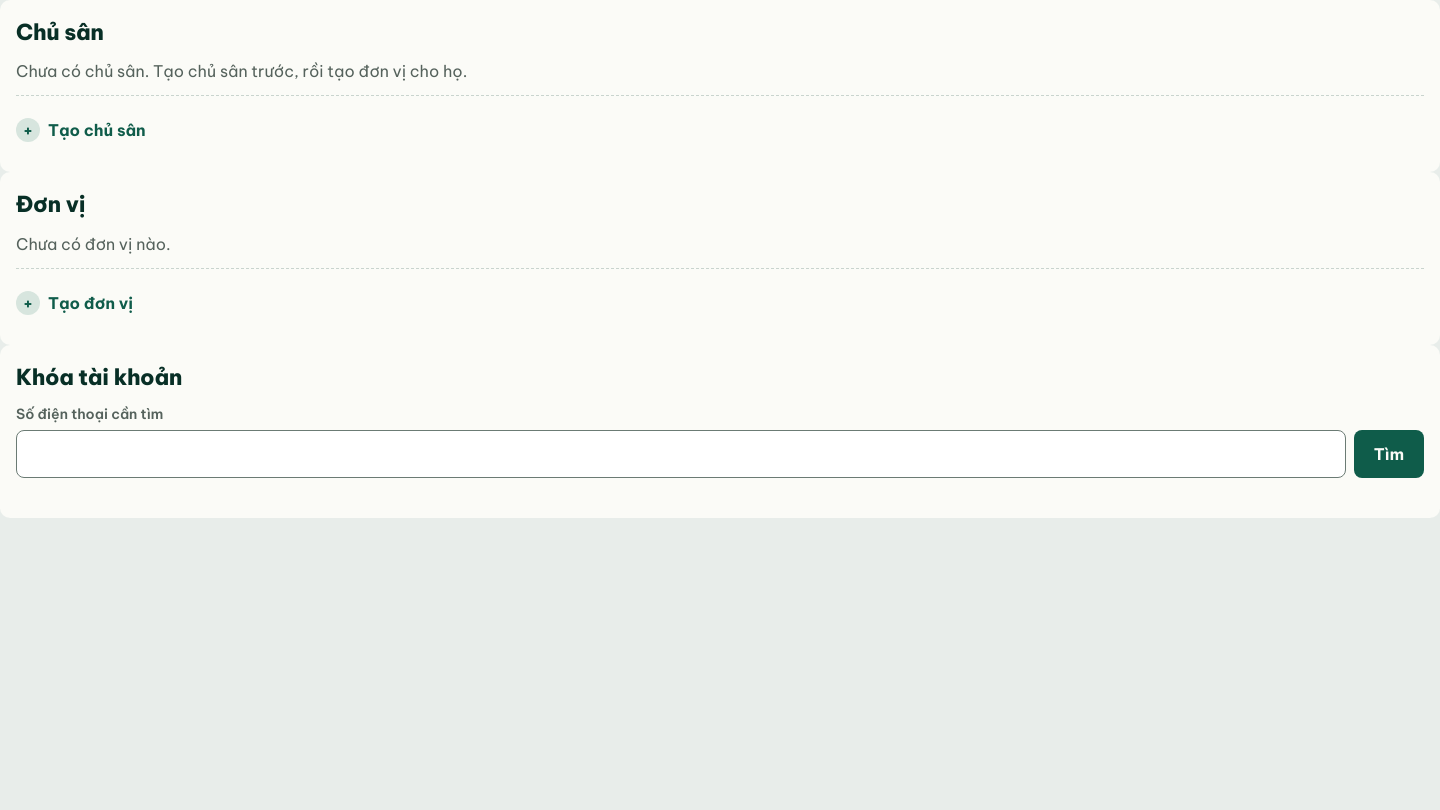
Scenario: AdminPanel › AC-27: the admin finds 0901234567 and locks An, and the row shows "Đã khóa" and "Mở khóa"
Type "0901234567" into the field labelled "Số điện thoại cần tìm" at [681, 454], box 16,430 -> 1346,478
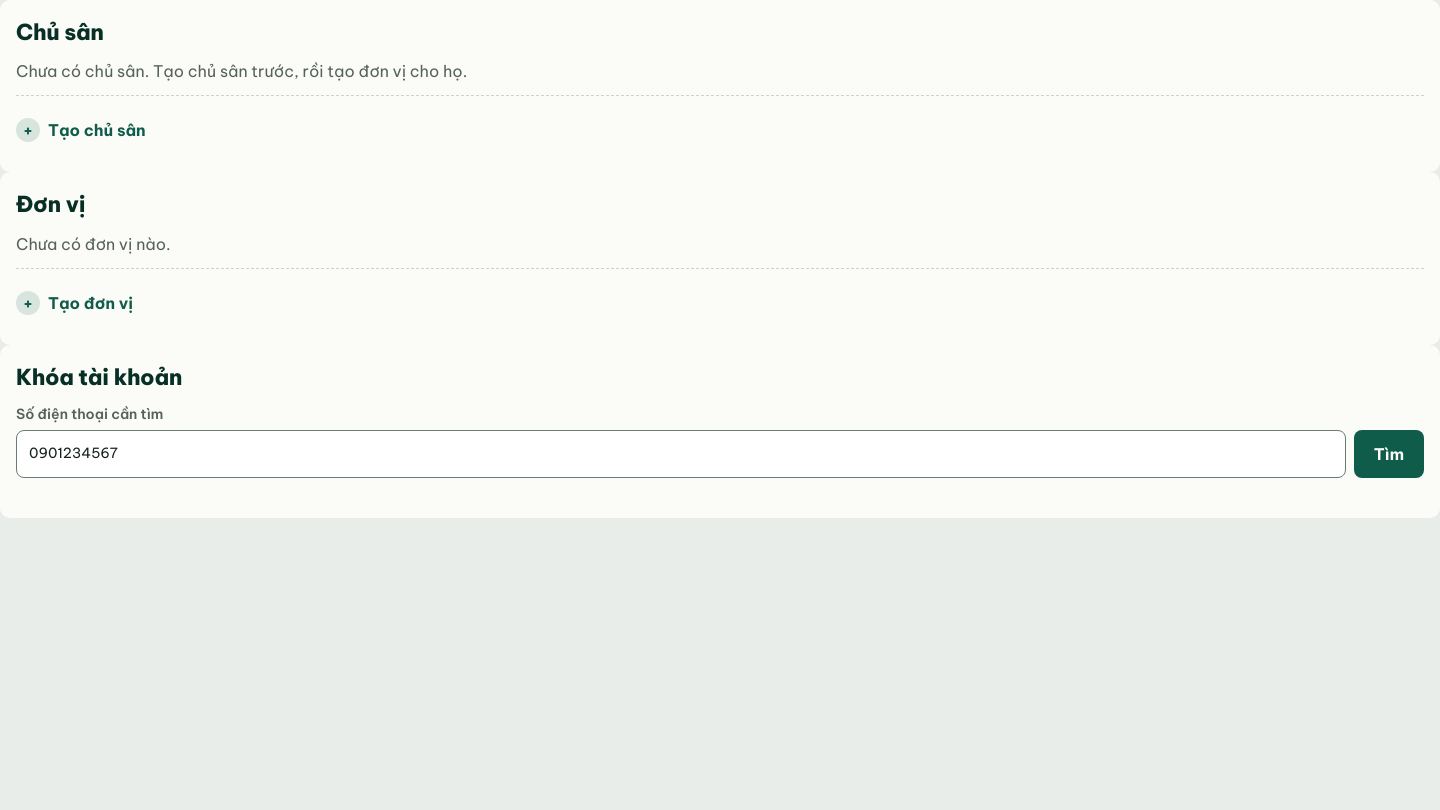
Click the button "Tìm" at [1389, 454], box 1354,430 -> 1424,478
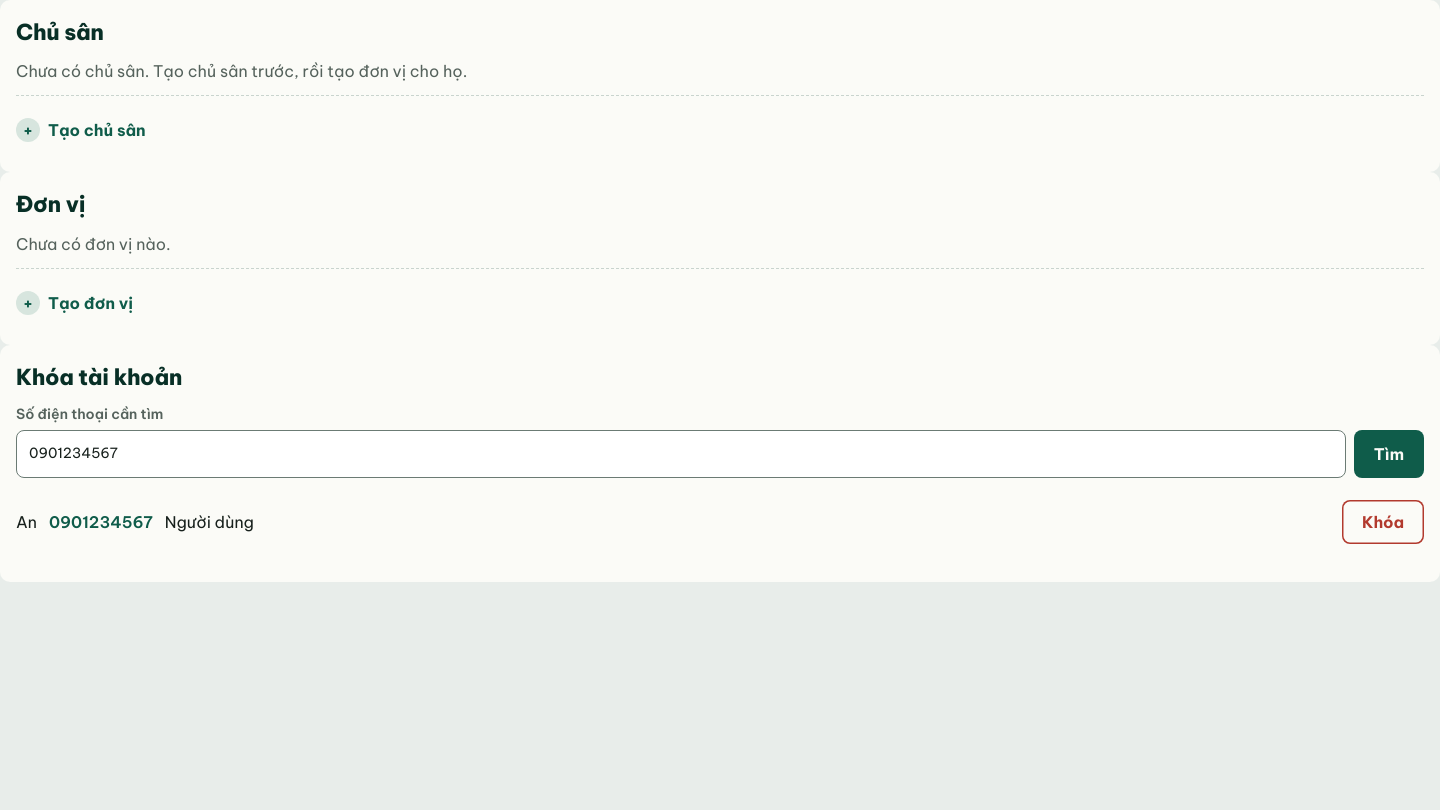
Click the button "Khóa" at [1383, 522], box 1342,500 -> 1424,544
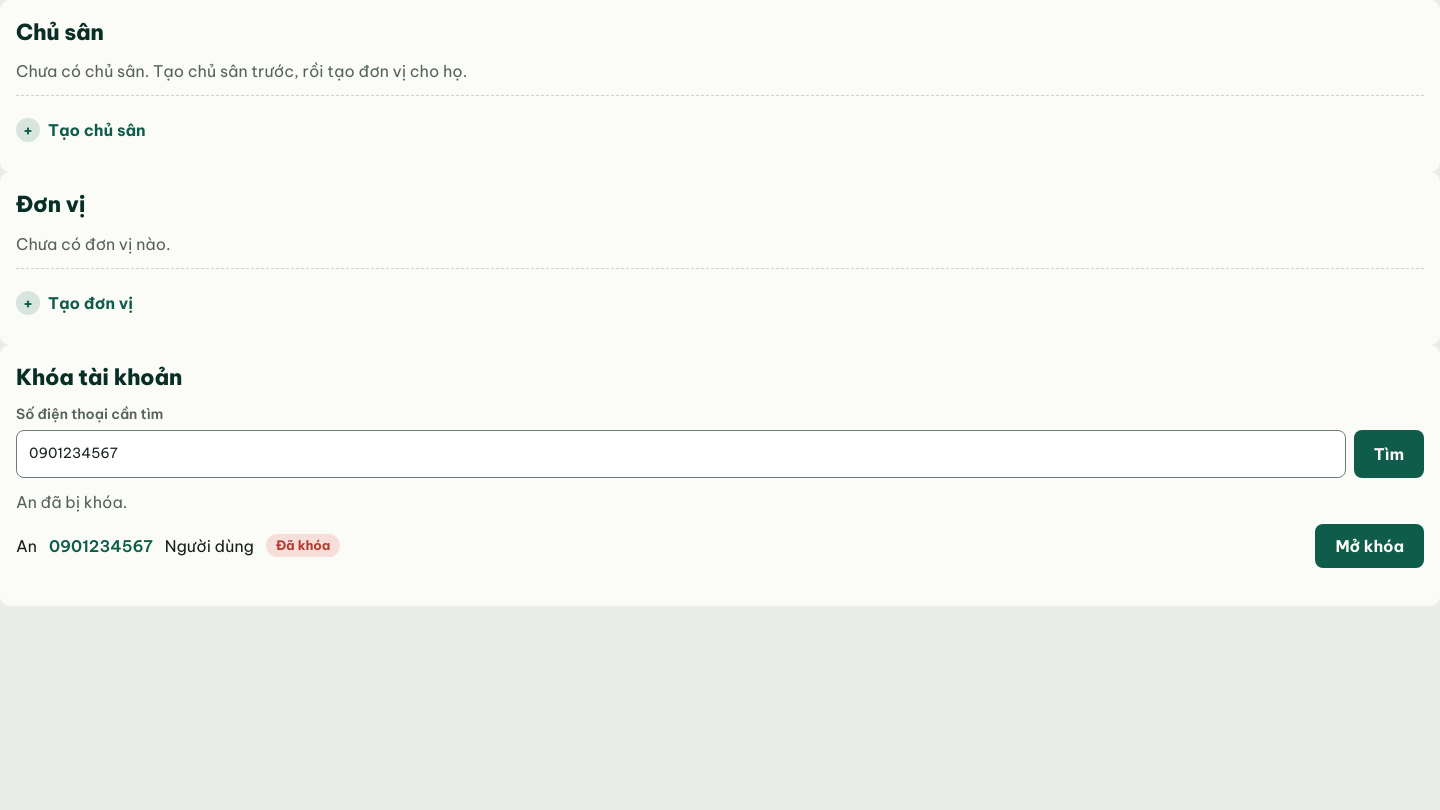
Expected: the text "Đã khóa" is shown, 266,534 -> 340,557
Expected: the button "Mở khóa" is shown, 1315,524 -> 1424,568
